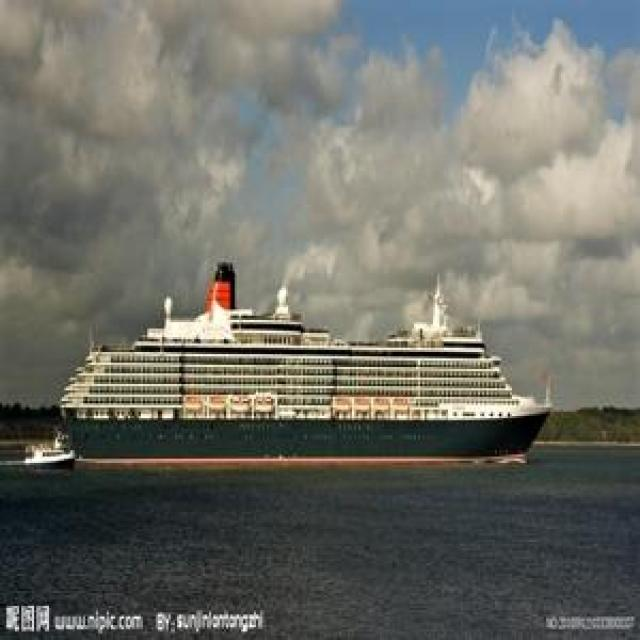houseboat: (5, 404, 81, 466)
passenger ship: (46, 283, 546, 464)
